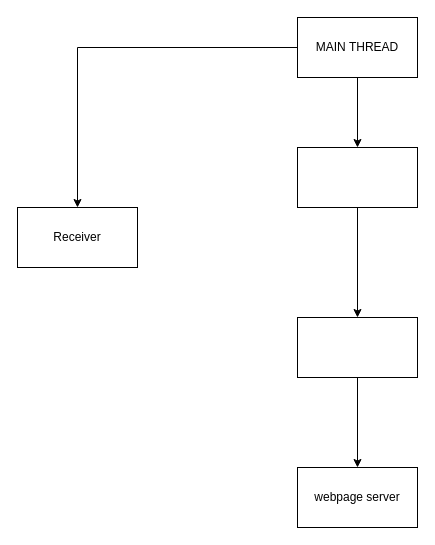
This 435x545 diagram has some shape labels left out. The shapes that lost their labels are listed below. From the top down, each one's centre as x and y in pixels, then its label:
the point at 357,177: Help Message
the point at 357,347: Tab
